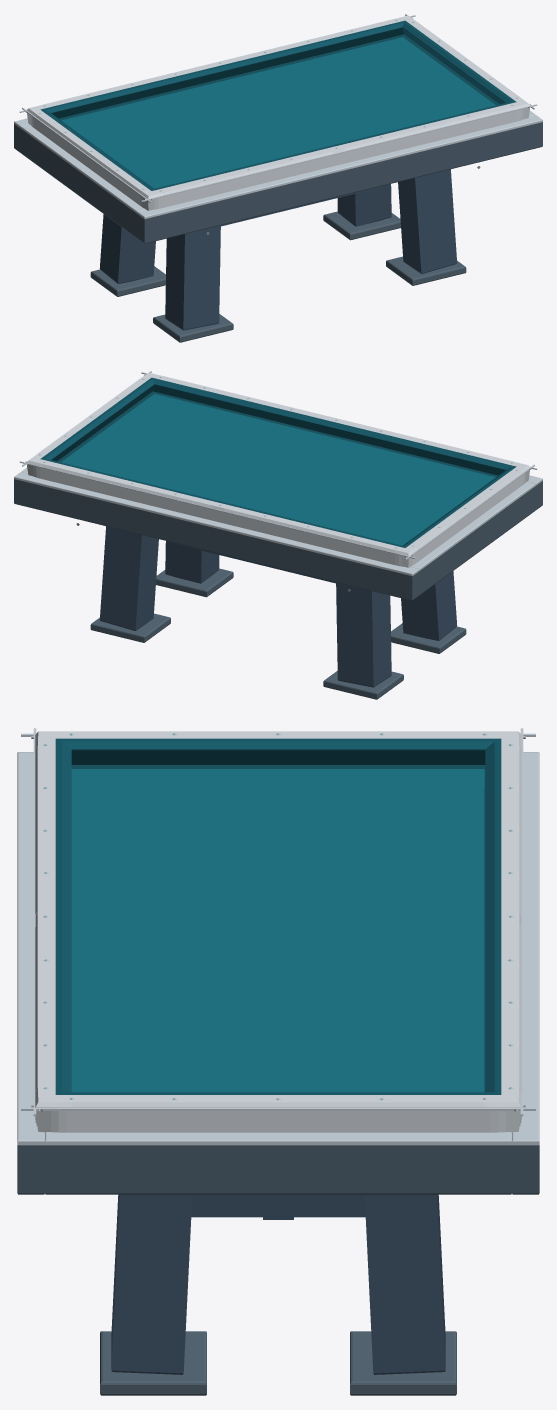
File: table-threecushion-5-american-ivory.glb
3 views of the same model, one above another, from view 1: azimuth 30°, elevation 25°; view 2: azimuth 150°, elevation 25°; view 3: azimuth 270°, elevation 25° (orthographic). The views are drawn at different scales.
Parts seen in each view (by area): view 1: table-threecushion-5-american-ivory, break-builder-table-support, spectra-ivory-table-body, spectra-ivory-table-details; view 2: table-threecushion-5-american-ivory, break-builder-table-support, spectra-ivory-table-body, spectra-ivory-table-details; view 3: table-threecushion-5-american-ivory, spectra-ivory-table-body, break-builder-table-support, spectra-ivory-table-details.
Part boxes in pixels (x1=…): table-threecushion-5-american-ivory: x1=27, y1=15, x2=529, y2=210; break-builder-table-support: x1=90, y1=169, x2=466, y2=342; spectra-ivory-table-body: x1=14, y1=110, x2=542, y2=243; spectra-ivory-table-details: x1=19, y1=14, x2=537, y2=202; table-threecushion-5-american-ivory: x1=27, y1=372, x2=529, y2=567; break-builder-table-support: x1=90, y1=526, x2=466, y2=699; spectra-ivory-table-body: x1=14, y1=467, x2=542, y2=600; spectra-ivory-table-details: x1=19, y1=371, x2=537, y2=559; table-threecushion-5-american-ivory: x1=35, y1=731, x2=521, y2=1132; spectra-ivory-table-body: x1=17, y1=752, x2=539, y2=1194; break-builder-table-support: x1=100, y1=1194, x2=456, y2=1395; spectra-ivory-table-details: x1=21, y1=728, x2=535, y2=1116.
Size of the model in its own units: 1.75 by 0.7156 by 0.992.
41 materials, 1 textured.
